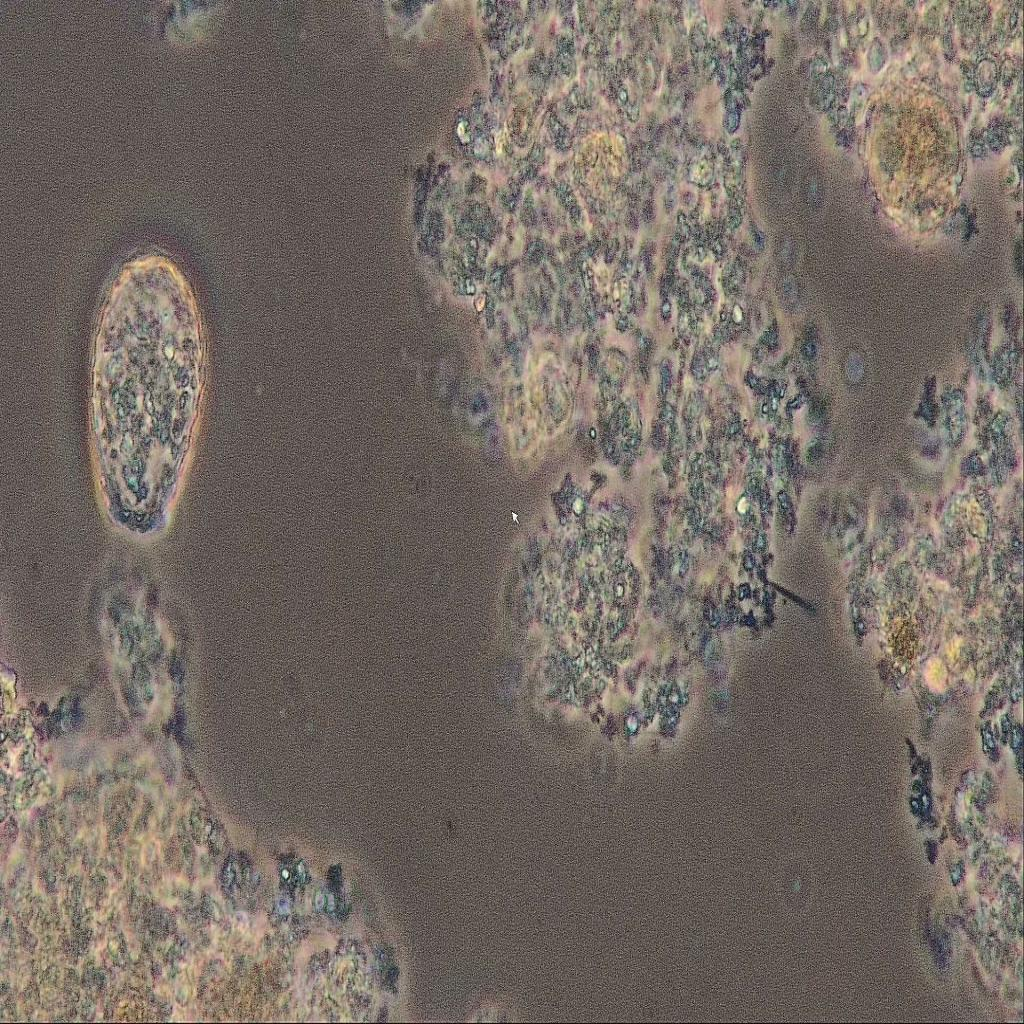Euglypha: (62, 174, 232, 565)
